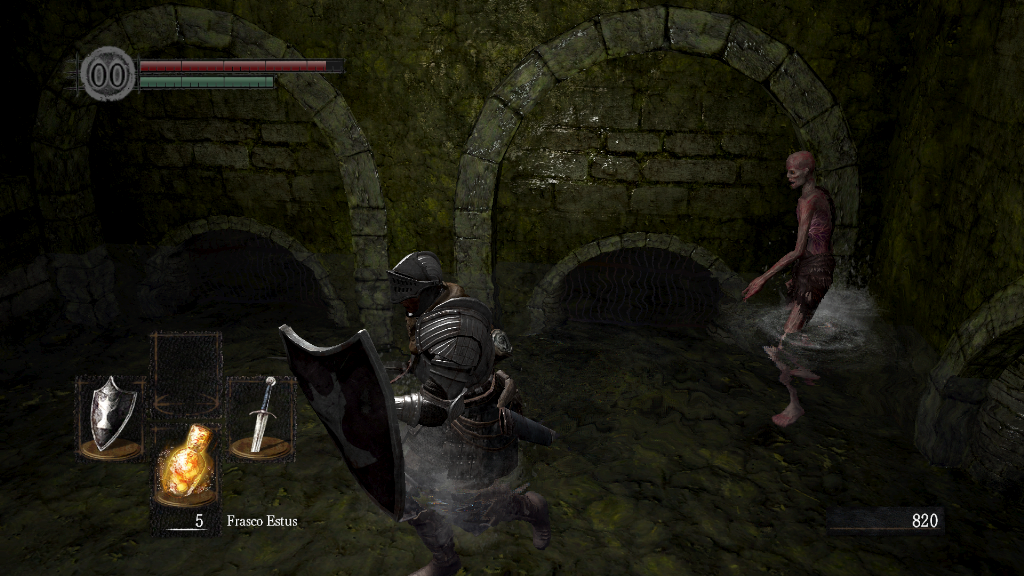health: (138, 58, 343, 71)
hollow: (742, 149, 838, 430)
humanity: (80, 45, 136, 102)
player: (277, 250, 558, 576)
souls: (825, 506, 945, 536)
stamina: (138, 74, 274, 88)
